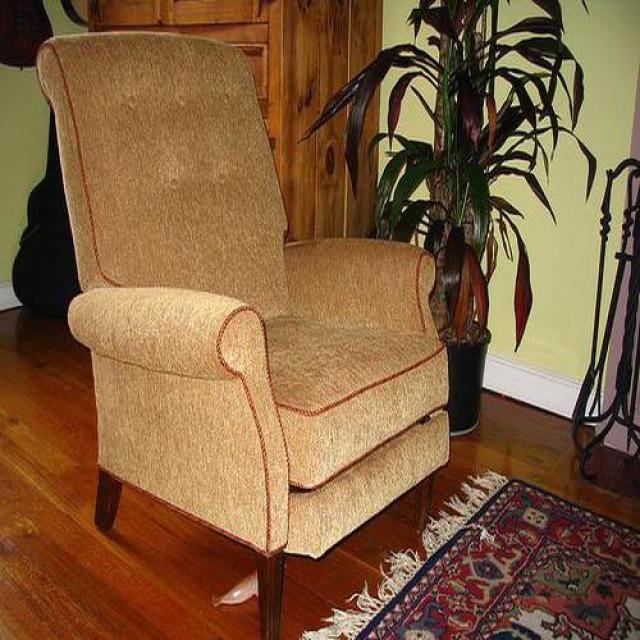chair: (35, 31, 452, 640)
